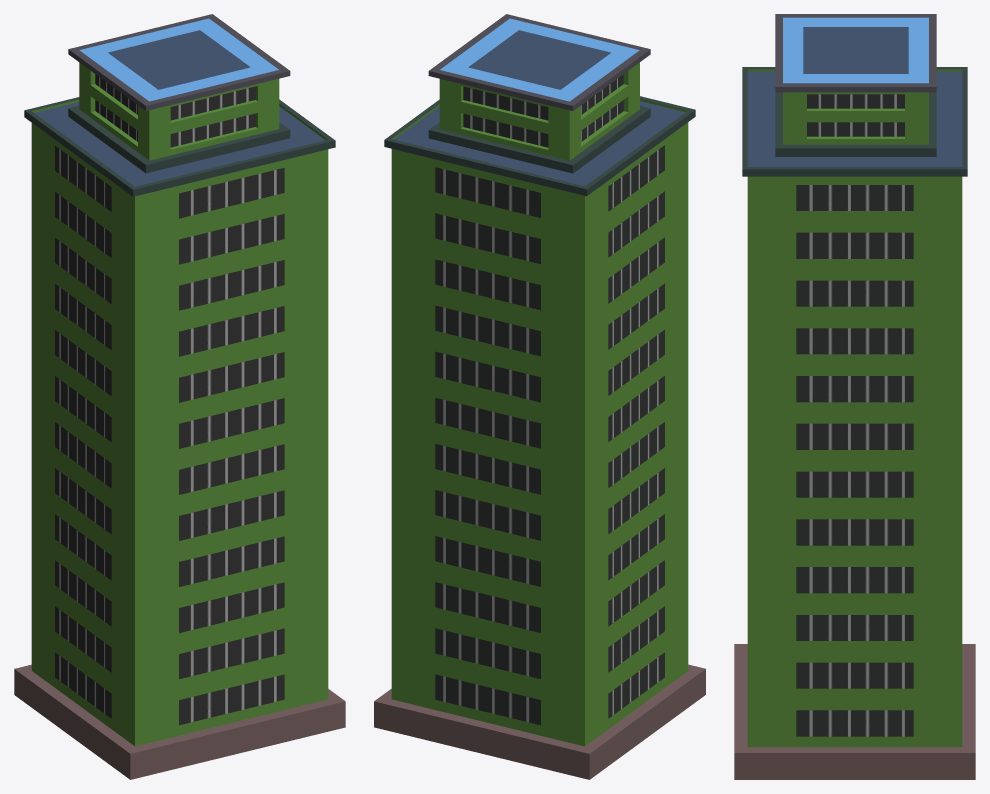
File: building31b.FBX
The picture shows the model from 3 angles, left to right: view 1: azimuth 30°, elevation 25°; view 2: azimuth 150°, elevation 25°; view 3: azimuth 270°, elevation 25°; orthographic projection. The views are drawn at different scales.
Parts seen in each view (by area): view 1: building31b; view 2: building31b; view 3: building31b.
Boxes of the visible parts, <box> form: building31b: <box>14,14,345,779</box>; building31b: <box>374,14,705,779</box>; building31b: <box>734,14,975,779</box>.
Bounding box in the file's own units: 17.44 × 50.37 × 16.3.
